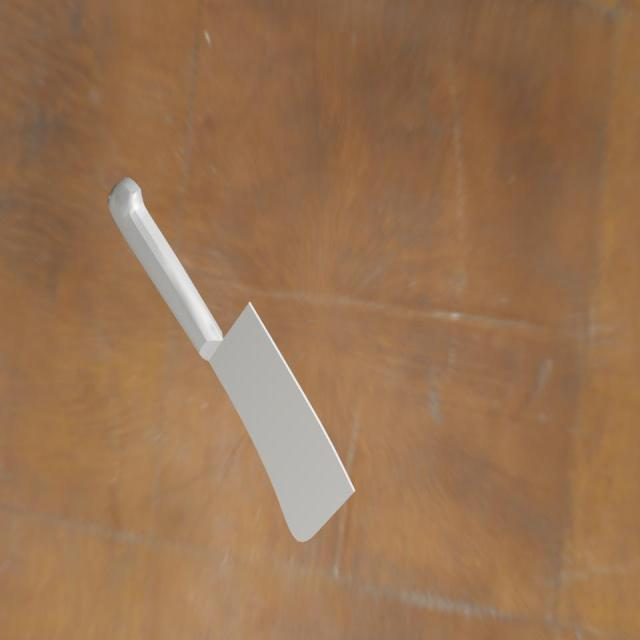knife: (99, 171, 220, 363)
